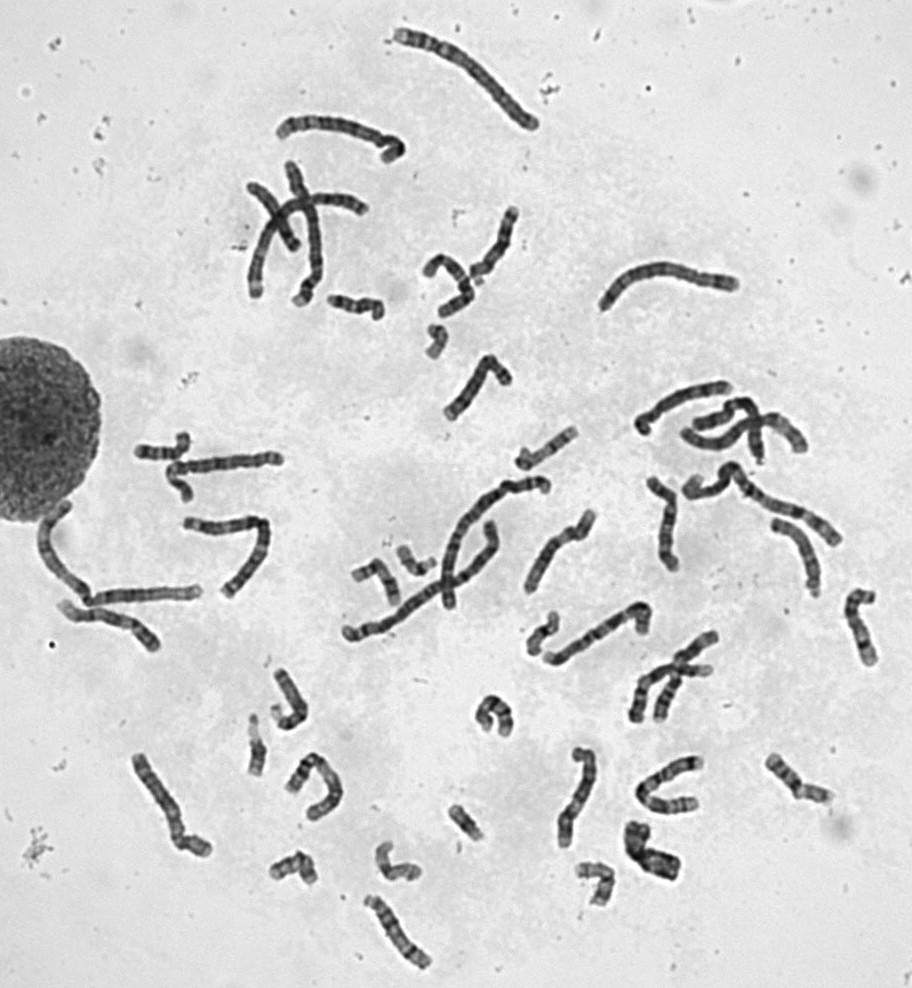chromosomes: (338, 515, 505, 647), (35, 493, 207, 617), (384, 26, 555, 139), (434, 472, 557, 612), (237, 189, 373, 311), (679, 463, 847, 555), (120, 742, 225, 863), (175, 511, 277, 602), (593, 260, 744, 318), (268, 111, 410, 172), (543, 599, 655, 672), (649, 619, 726, 725), (164, 446, 292, 507), (358, 889, 445, 977), (677, 407, 818, 461), (612, 660, 719, 731), (281, 152, 329, 308), (520, 505, 601, 594), (631, 371, 737, 439), (59, 597, 169, 660), (685, 391, 769, 469), (466, 196, 532, 292), (764, 512, 826, 610), (629, 751, 708, 826), (429, 350, 513, 420), (553, 739, 602, 858), (239, 181, 312, 260), (415, 247, 481, 327), (284, 746, 351, 824), (759, 748, 843, 809), (640, 471, 687, 575), (840, 585, 890, 682), (256, 660, 317, 732), (508, 421, 579, 471), (348, 557, 406, 610), (370, 835, 428, 886), (264, 847, 325, 895), (130, 422, 193, 467), (569, 863, 620, 912), (329, 290, 394, 326), (445, 798, 492, 847), (469, 693, 518, 739), (242, 713, 273, 782), (523, 610, 562, 663), (392, 539, 440, 581), (417, 321, 451, 371)
